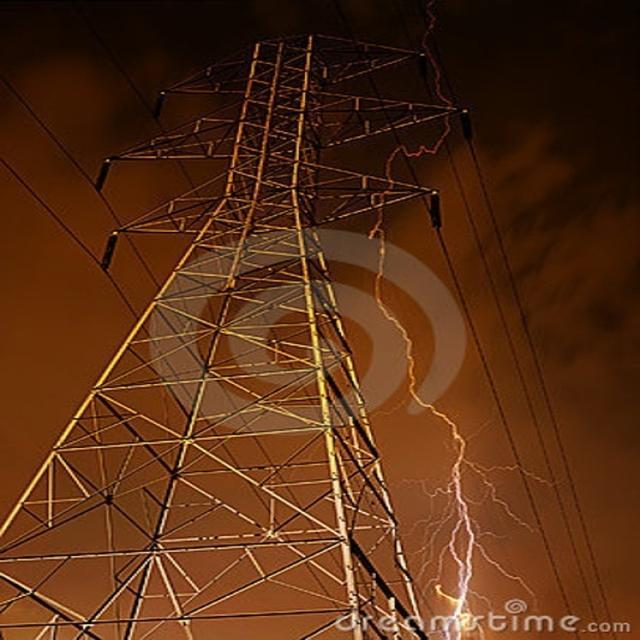non-critical vegetation: (27, 23, 440, 573)
